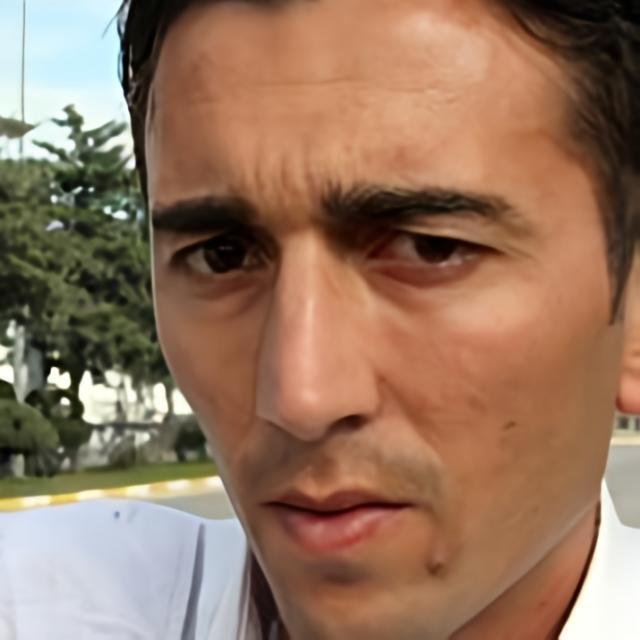sad: (140, 7, 619, 640)
